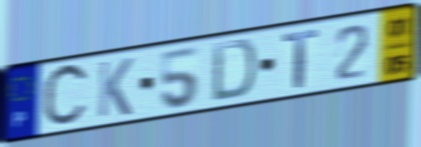2: (334, 22, 371, 83)
5: (159, 43, 200, 111)
C: (40, 60, 92, 133)
D: (210, 37, 258, 104)
K: (95, 56, 136, 120)
T: (280, 26, 320, 91)
